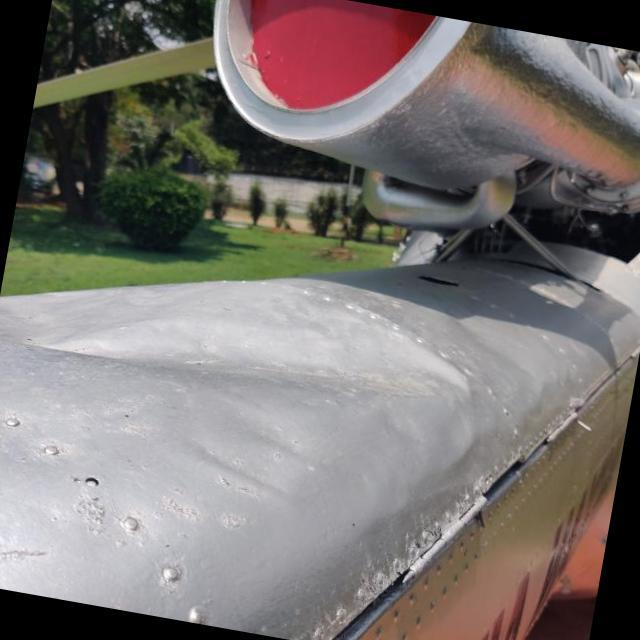Dent: (1, 229, 504, 450), (165, 381, 344, 526)
